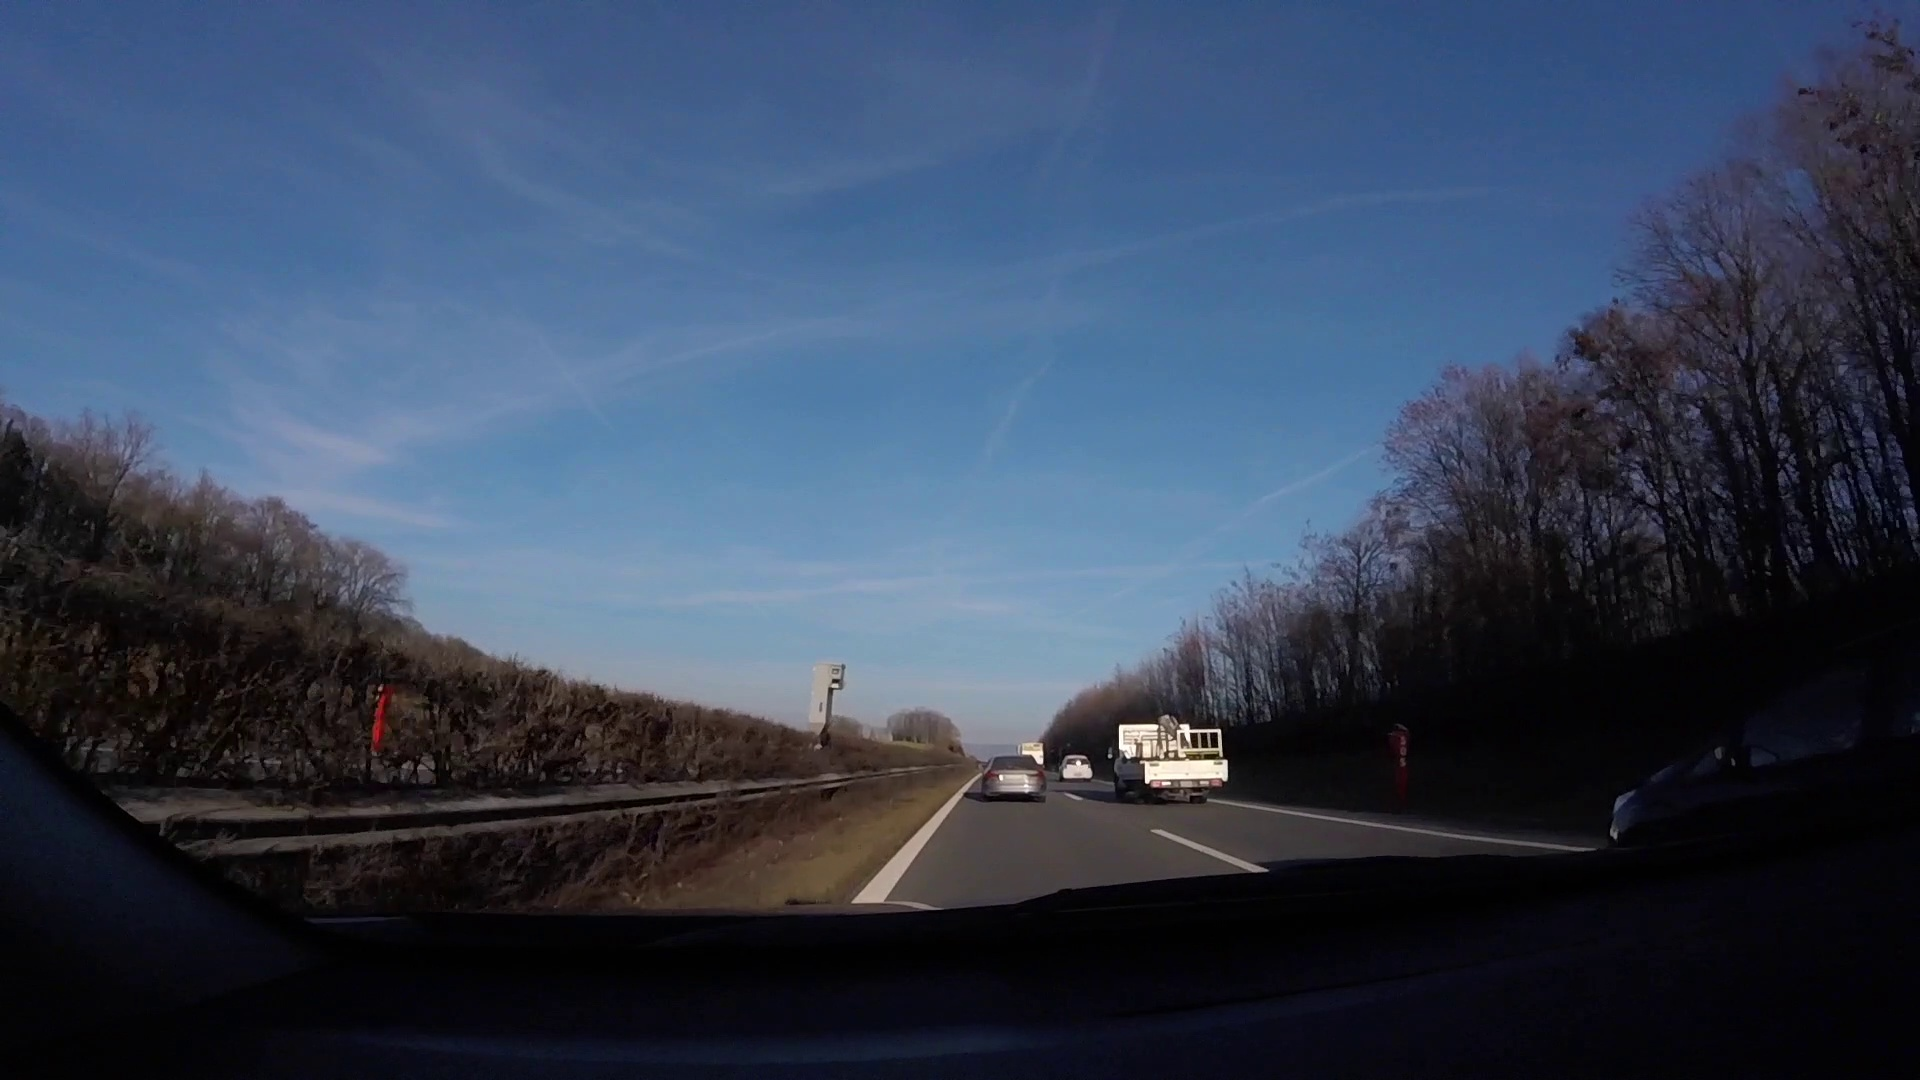radar: (807, 659, 848, 742)
